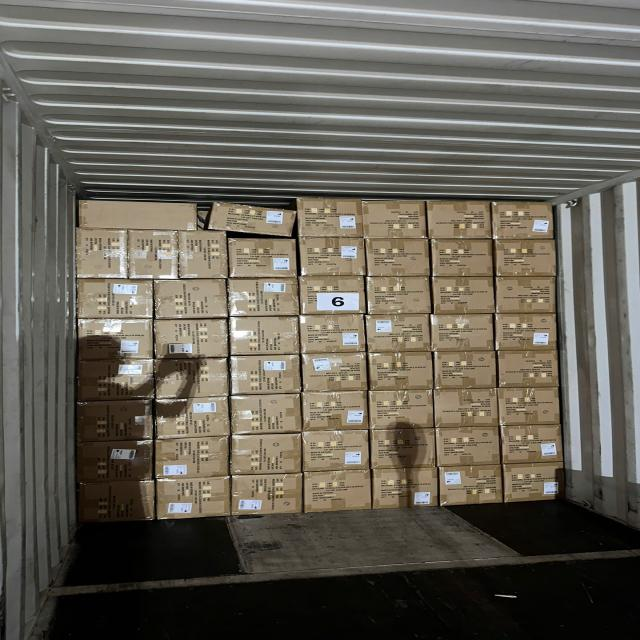Carton: (76, 198, 200, 232), (75, 356, 158, 402), (208, 201, 300, 238), (80, 482, 159, 524), (79, 321, 156, 364), (154, 478, 230, 520), (72, 226, 131, 280), (76, 443, 152, 484), (153, 399, 229, 440), (79, 401, 155, 442), (125, 227, 182, 281), (228, 432, 301, 474), (76, 278, 152, 318), (232, 474, 304, 516), (157, 437, 232, 477), (153, 321, 227, 361), (226, 240, 296, 282), (153, 359, 228, 398), (153, 280, 227, 319), (228, 395, 300, 435), (228, 354, 300, 394), (300, 431, 370, 471), (227, 318, 298, 357), (226, 279, 298, 317), (304, 392, 372, 432), (306, 472, 374, 512), (372, 427, 438, 468), (296, 198, 362, 239), (298, 240, 364, 280), (437, 425, 503, 465), (373, 470, 439, 510), (437, 467, 501, 508), (371, 392, 436, 432), (362, 198, 427, 238), (300, 353, 366, 392), (436, 350, 500, 390), (297, 277, 364, 315), (364, 276, 431, 314), (302, 316, 369, 354), (365, 315, 430, 354), (364, 241, 429, 280), (429, 241, 493, 280), (427, 199, 491, 238), (500, 423, 562, 463), (370, 352, 435, 390), (494, 314, 557, 353), (430, 314, 494, 352), (436, 391, 500, 429), (492, 201, 554, 240), (502, 466, 562, 506), (494, 276, 557, 314), (432, 277, 494, 315), (494, 242, 556, 280), (501, 390, 563, 428), (497, 350, 559, 387), (182, 233, 229, 281)
